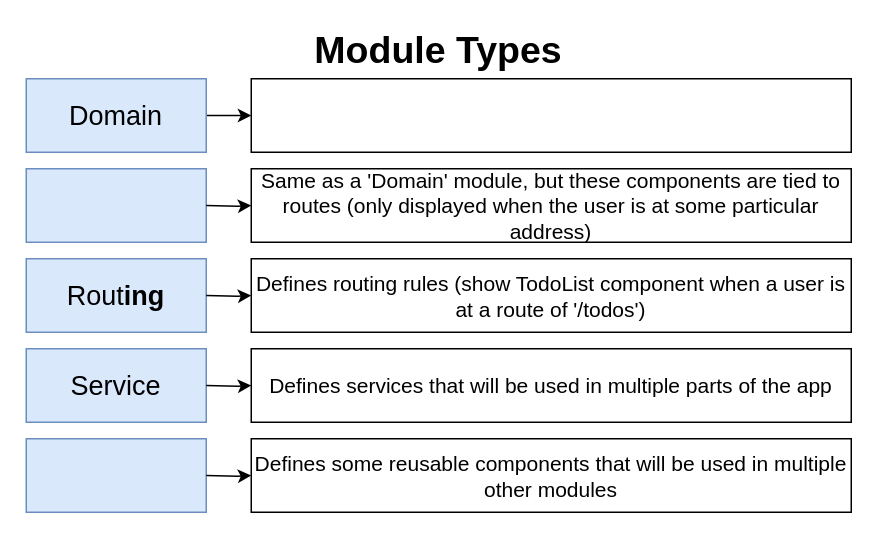
Some shapes in this 878 by 539 pixel diagram are drawn without their labels. Each missing label, with the centre of its shape:
Rout ed: the point at 115,204
Widget: the point at 115,474
Wraps up all the components needed to implement one single feature: the point at 550,114
